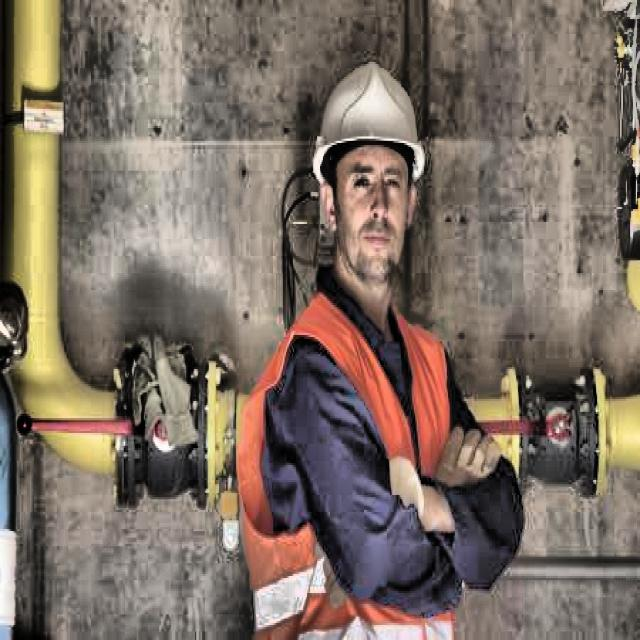helmet: (299, 38, 432, 301)
